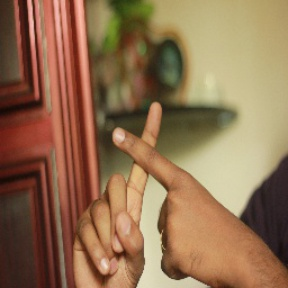X: (85, 91, 214, 242)
